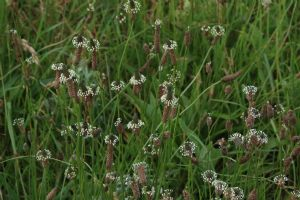buckhorn plantain: (7, 9, 288, 195)
